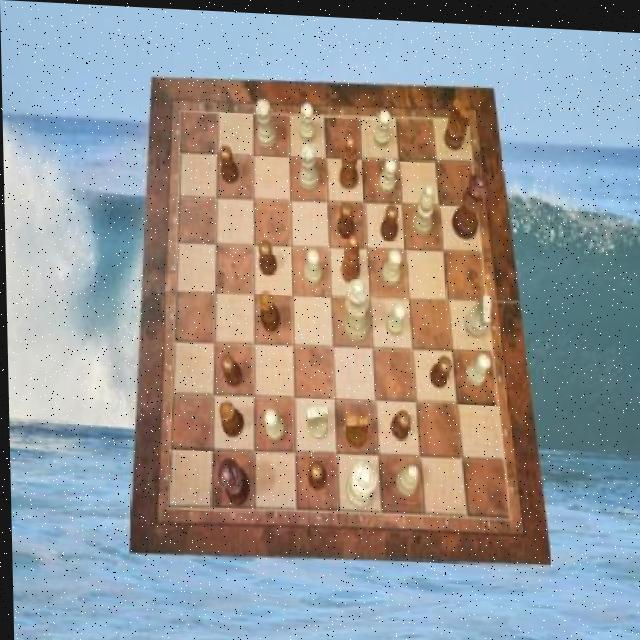bishop: (337, 132, 357, 187), (338, 232, 359, 281)
black-bishop: (214, 456, 247, 504)
black-king: (443, 93, 471, 147), (343, 411, 368, 446)
black-knight: (428, 351, 451, 386), (219, 353, 241, 387), (219, 143, 238, 181), (378, 200, 397, 237), (257, 238, 275, 273), (336, 198, 353, 235), (388, 407, 409, 436), (306, 459, 324, 488)
black-pawn: (450, 168, 489, 235)
black-queen: (256, 287, 279, 329), (216, 398, 241, 435)
black-rook: (409, 178, 433, 233), (393, 457, 418, 493)
white-bishop: (341, 457, 375, 506)
white-king: (462, 289, 488, 334), (304, 400, 327, 437)
white-knight: (464, 348, 490, 383), (380, 245, 400, 282), (377, 154, 397, 191), (383, 298, 404, 333), (372, 106, 390, 145), (302, 246, 320, 283), (261, 406, 281, 439), (298, 100, 314, 140)
white-pawn: (341, 273, 369, 337)
white-queen: (254, 97, 275, 147), (296, 140, 317, 188)
